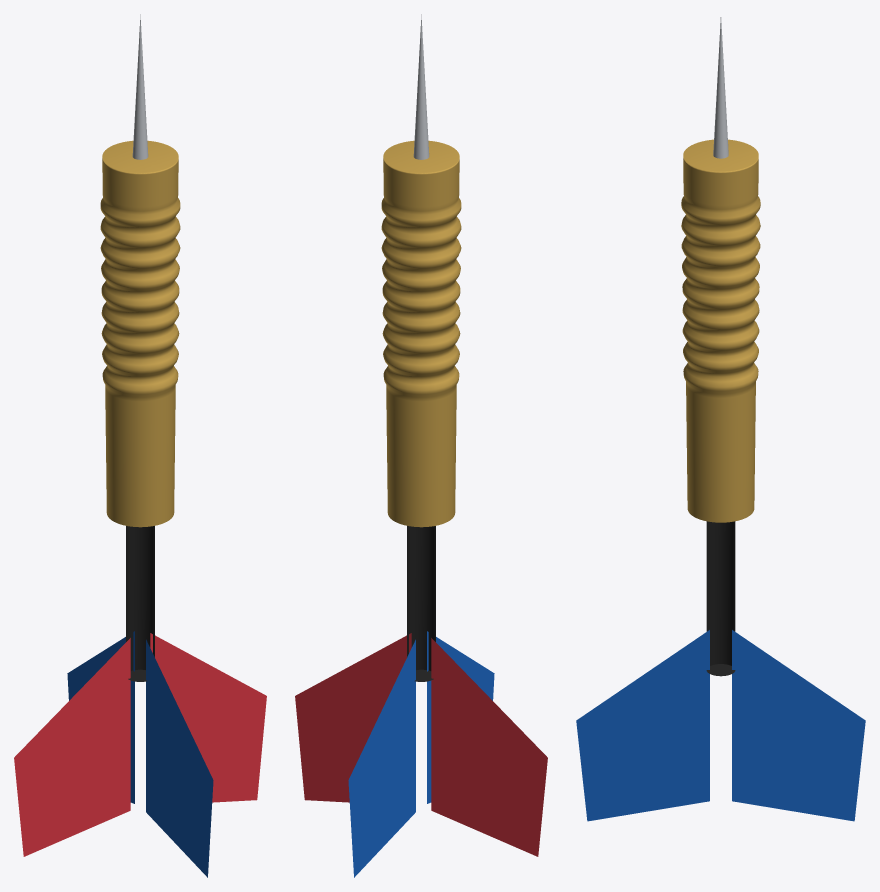
Rendered from dart.glb.
3 renders of one model, left to right at view 1: azimuth 30°, elevation 25°; view 2: azimuth 150°, elevation 25°; view 3: azimuth 270°, elevation 25°, orthographic.
Parts seen in each view (by area): view 1: Barrel, Flight3, Flight1, Flight4, Shaft, Flight2, Tip; view 2: Barrel, Flight3, Flight1, Flight2, Shaft, Flight4, Tip; view 3: Barrel, Flight2, Flight4, Shaft, Tip.
Boxes of the visible parts, bbox=[...] form: Barrel: bbox=[100, 140, 180, 527]; Flight3: bbox=[14, 638, 130, 856]; Flight1: bbox=[150, 633, 266, 802]; Flight4: bbox=[146, 639, 213, 877]; Shaft: bbox=[126, 526, 154, 681]; Flight2: bbox=[67, 631, 134, 803]; Tip: bbox=[132, 14, 148, 159]; Barrel: bbox=[381, 140, 461, 527]; Flight3: bbox=[431, 638, 547, 856]; Flight1: bbox=[295, 633, 411, 802]; Flight2: bbox=[348, 639, 415, 877]; Shaft: bbox=[407, 526, 435, 681]; Flight4: bbox=[427, 631, 494, 803]; Tip: bbox=[413, 14, 429, 159]; Barrel: bbox=[681, 139, 760, 522]; Flight2: bbox=[732, 630, 865, 821]; Flight4: bbox=[576, 630, 709, 821]; Shaft: bbox=[706, 521, 735, 676]; Tip: bbox=[713, 17, 728, 158].
Bounding box in the file's own units: 2.6 × 8 × 2.6.
